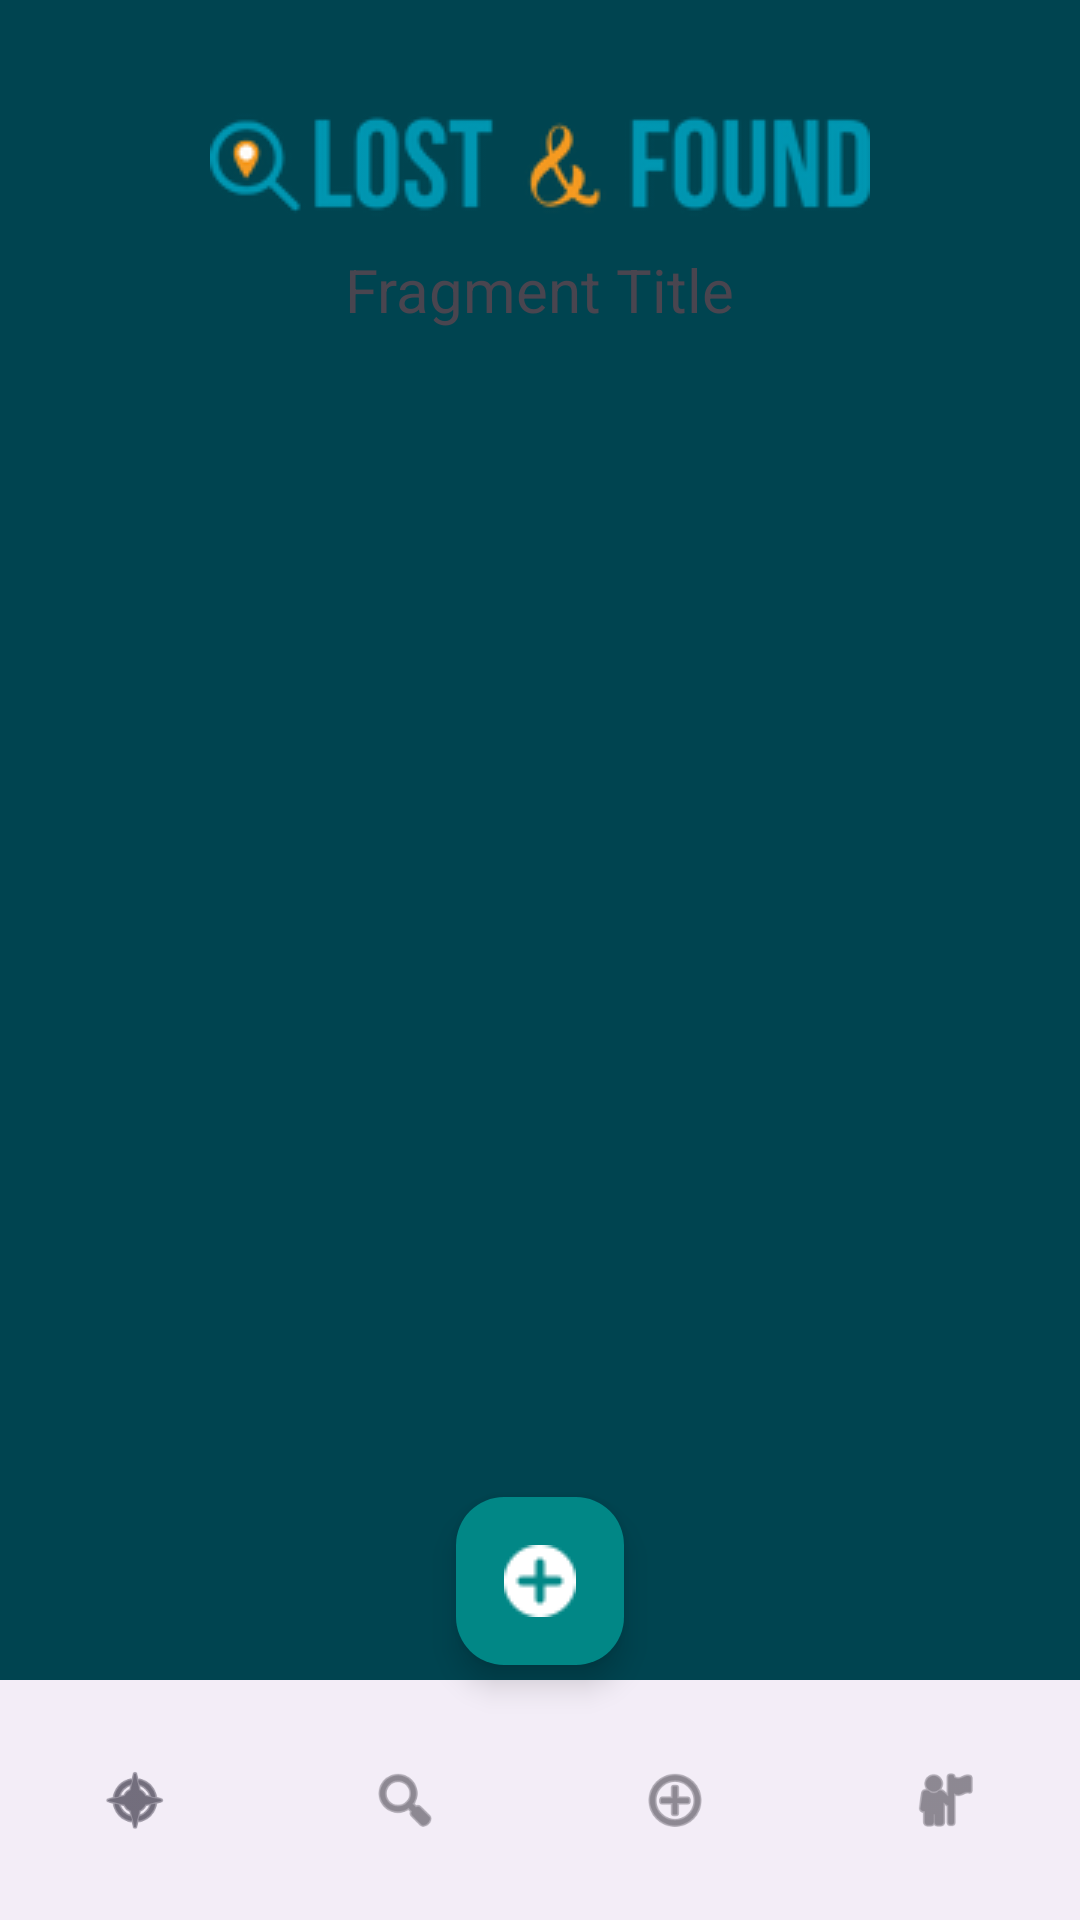

Locate icon controls on the screen. Image size 1080 x 1920, boxes as bbox=[x1, y1, x2, y2].
FOB Add: bbox=[456, 1497, 624, 1665]
